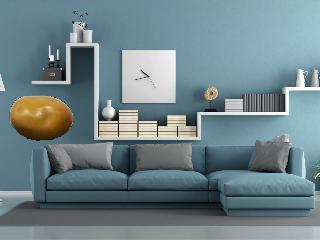potato: (7, 92, 78, 143)
